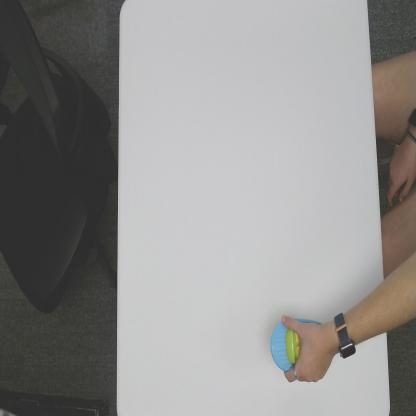Arm: (363, 254, 416, 351)
Boat: (270, 316, 322, 373)
Hand: (283, 306, 334, 393)
